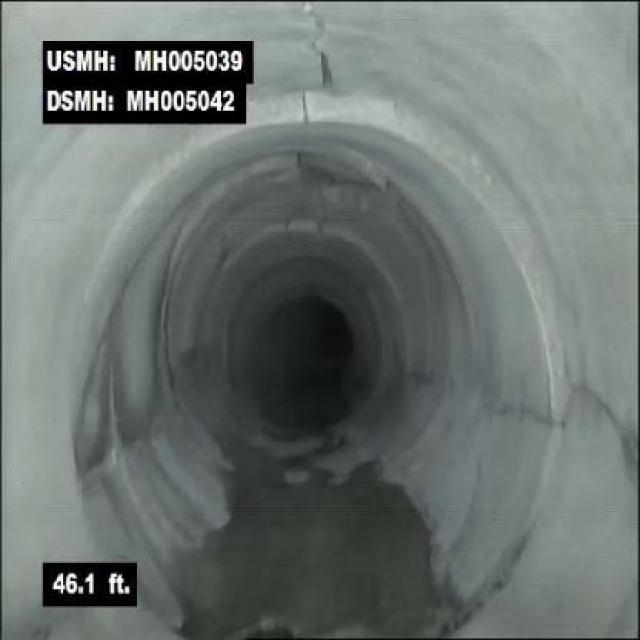Buckling: (308, 135, 397, 197), (298, 1, 344, 96)
Crack: (571, 348, 638, 486), (492, 397, 548, 432)
Joint offset: (469, 123, 565, 322), (349, 91, 468, 154)
